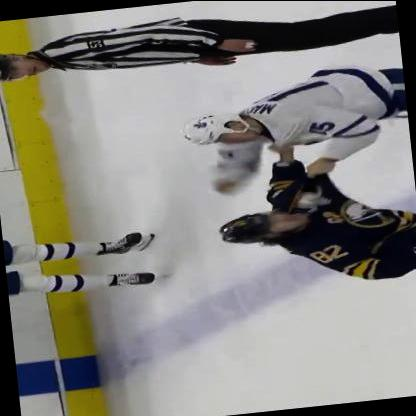non-Voilence: (0, 1, 400, 91)
voilence: (174, 60, 415, 299)
